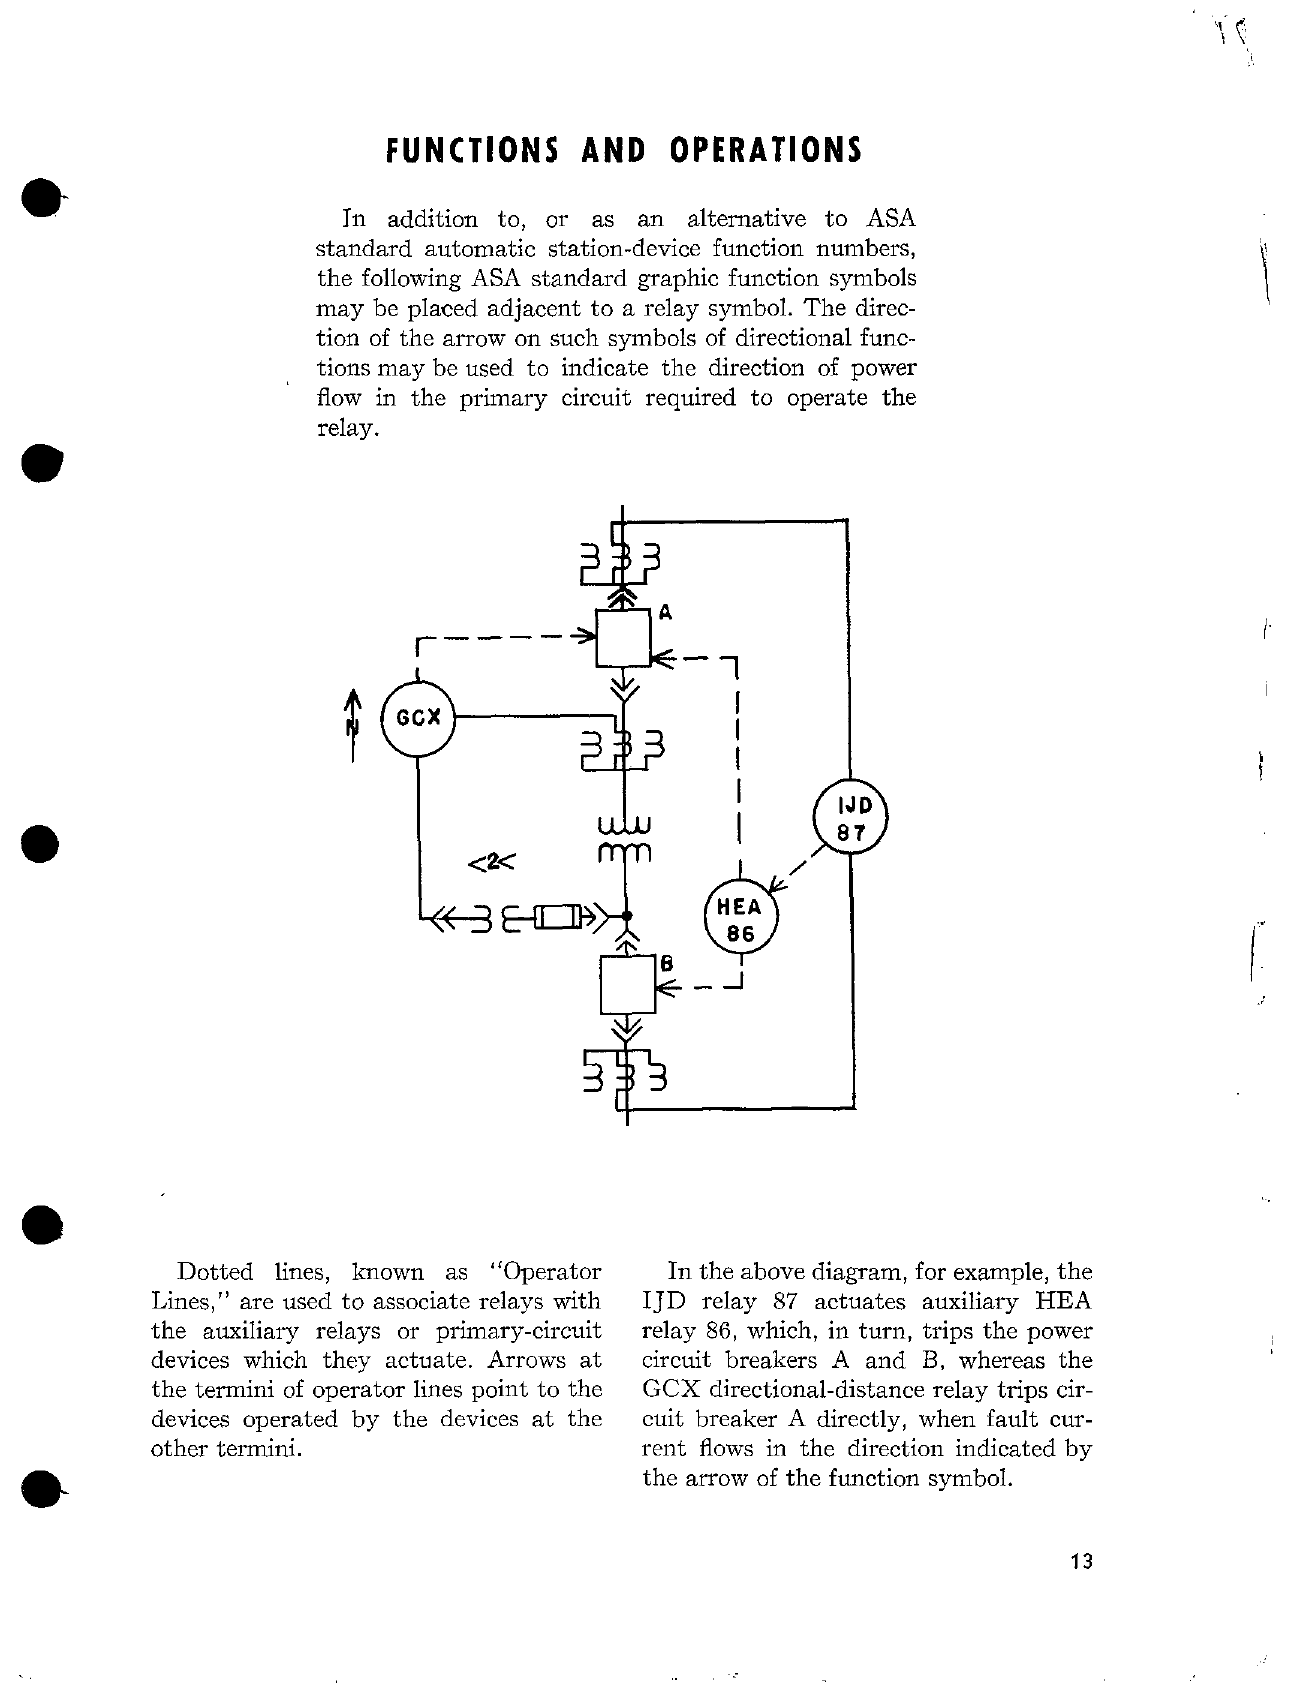fuse: (523, 886, 591, 949)
transformer: (580, 792, 673, 876), (465, 884, 527, 949)
